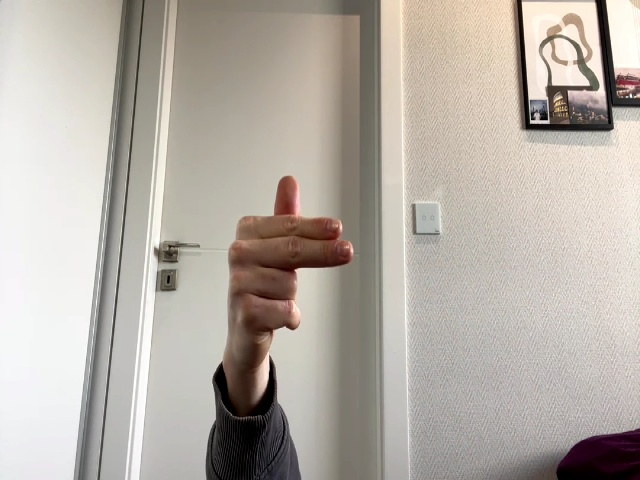N: (229, 176, 353, 344)
